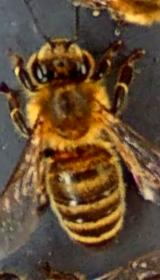varroa_mite: (42, 144, 81, 166)
